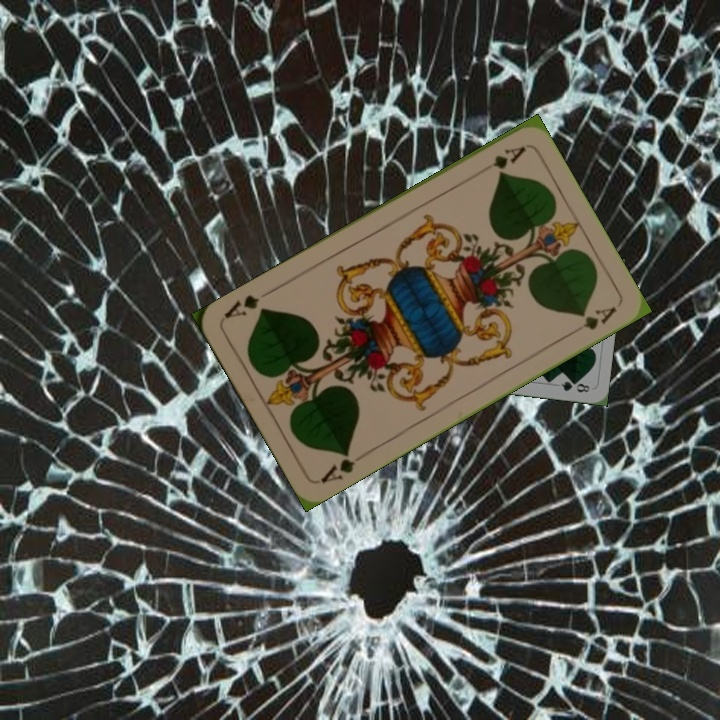GA: (316, 446, 370, 486), (488, 142, 528, 172)
